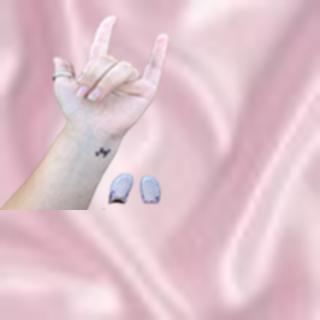ILY: (42, 10, 174, 141)
